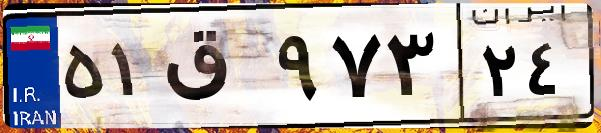1: (110, 28, 158, 98)
2: (475, 38, 525, 113)
3: (385, 28, 445, 110)
4: (525, 38, 570, 115)
5: (57, 26, 110, 100)
7: (330, 28, 385, 110)
9: (270, 28, 330, 110)
ق: (158, 20, 270, 120)
